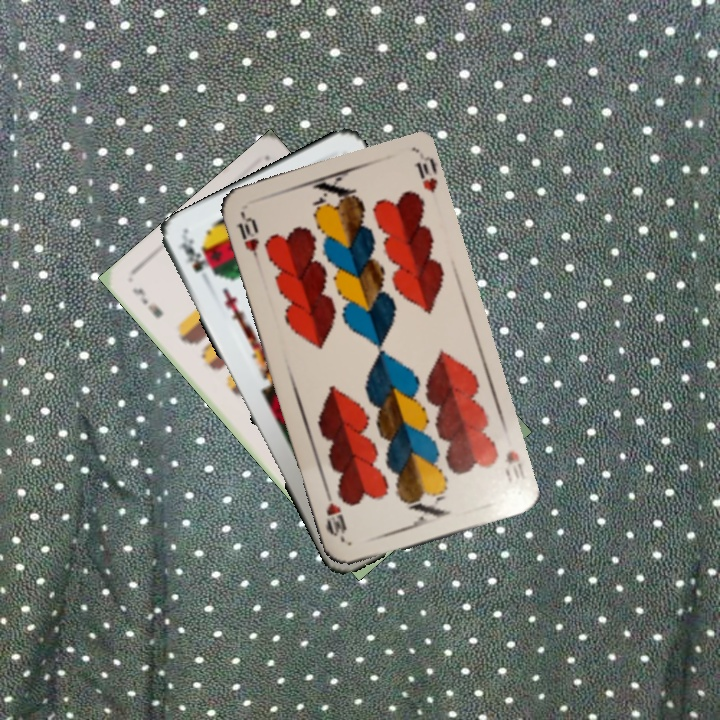E7: (128, 283, 166, 321)
H10: (234, 208, 263, 266), (500, 447, 528, 486)
SK: (174, 234, 208, 275)
